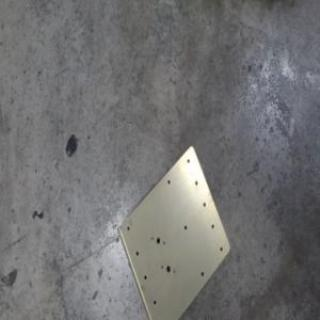MetalSheettrack_idkeyframe: (114, 142, 230, 319)
